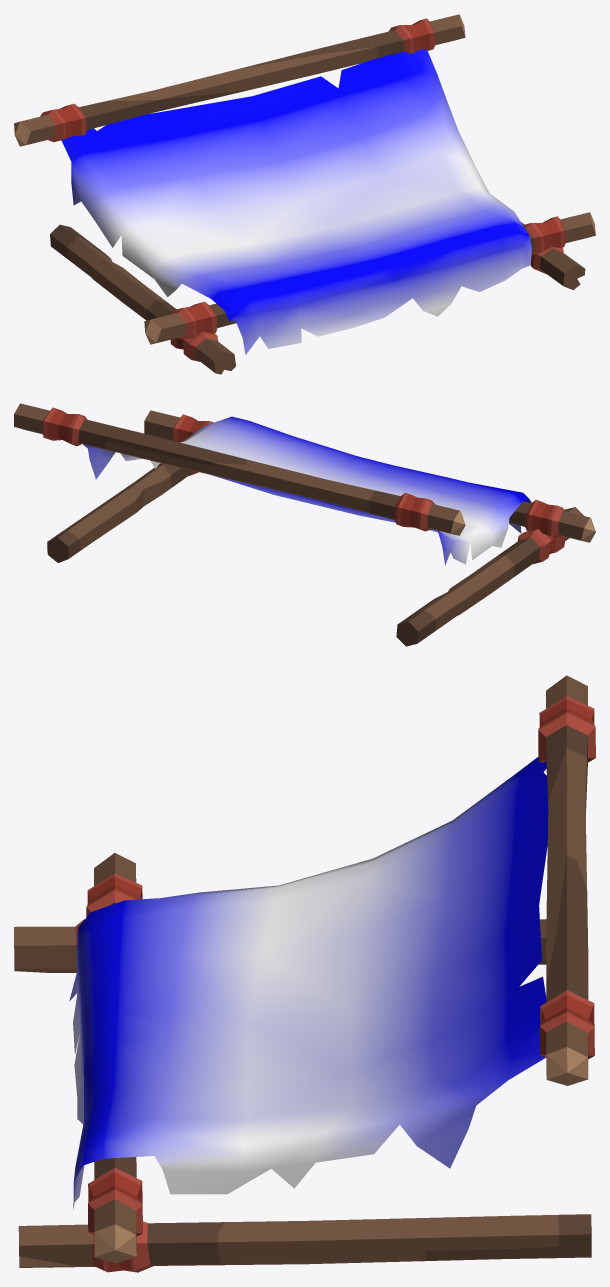
Rendered from SM_Bld_Awning_04.fbx.
The picture shows the model from 3 angles, top to bottom: view 1: azimuth 30°, elevation 25°; view 2: azimuth 150°, elevation 25°; view 3: azimuth 270°, elevation 25°; orthographic projection. The views are drawn at different scales.
Visible parts, largest first — view 1: SM_Bld_Awning_04; view 2: SM_Bld_Awning_04; view 3: SM_Bld_Awning_04.
Boxes of the visible parts, x1=… form: SM_Bld_Awning_04: x1=14, y1=14, x2=595, y2=374; SM_Bld_Awning_04: x1=14, y1=403, x2=595, y2=646; SM_Bld_Awning_04: x1=14, y1=675, x2=595, y2=1272.
Bounding box in the file's own units: 260 × 90.82 × 168.
